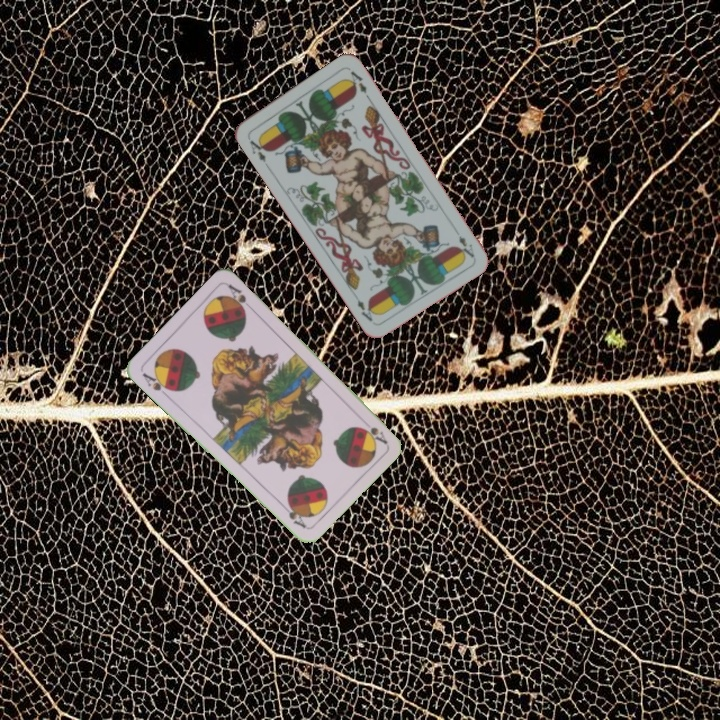EA: (450, 224, 477, 260), (246, 134, 270, 170)
SA: (138, 368, 175, 400), (362, 423, 390, 447)
